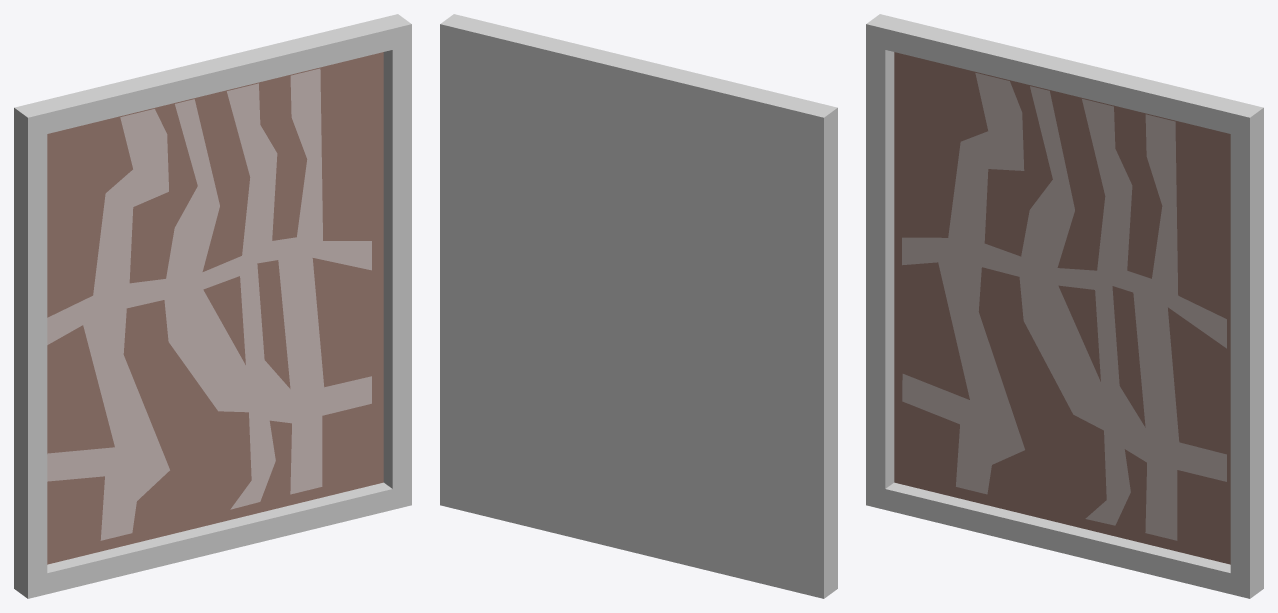
File: picture_056.glb
The picture shows the model from 3 angles, left to right: view 1: azimuth 30°, elevation 25°; view 2: azimuth 150°, elevation 25°; view 3: azimuth 330°, elevation 25°; orthographic projection.
Parts seen in each view (by area): view 1: picture_056; view 2: picture_056; view 3: picture_056.
Boxes of the visible parts, x1=… form: picture_056: x1=14, y1=14, x2=411, y2=598; picture_056: x1=440, y1=14, x2=837, y2=598; picture_056: x1=866, y1=14, x2=1263, y2=598.
Bounding box in the file's own units: 0.5657 × 0.6777 × 0.0353.
Materials: 1 (1 with a texture image).
